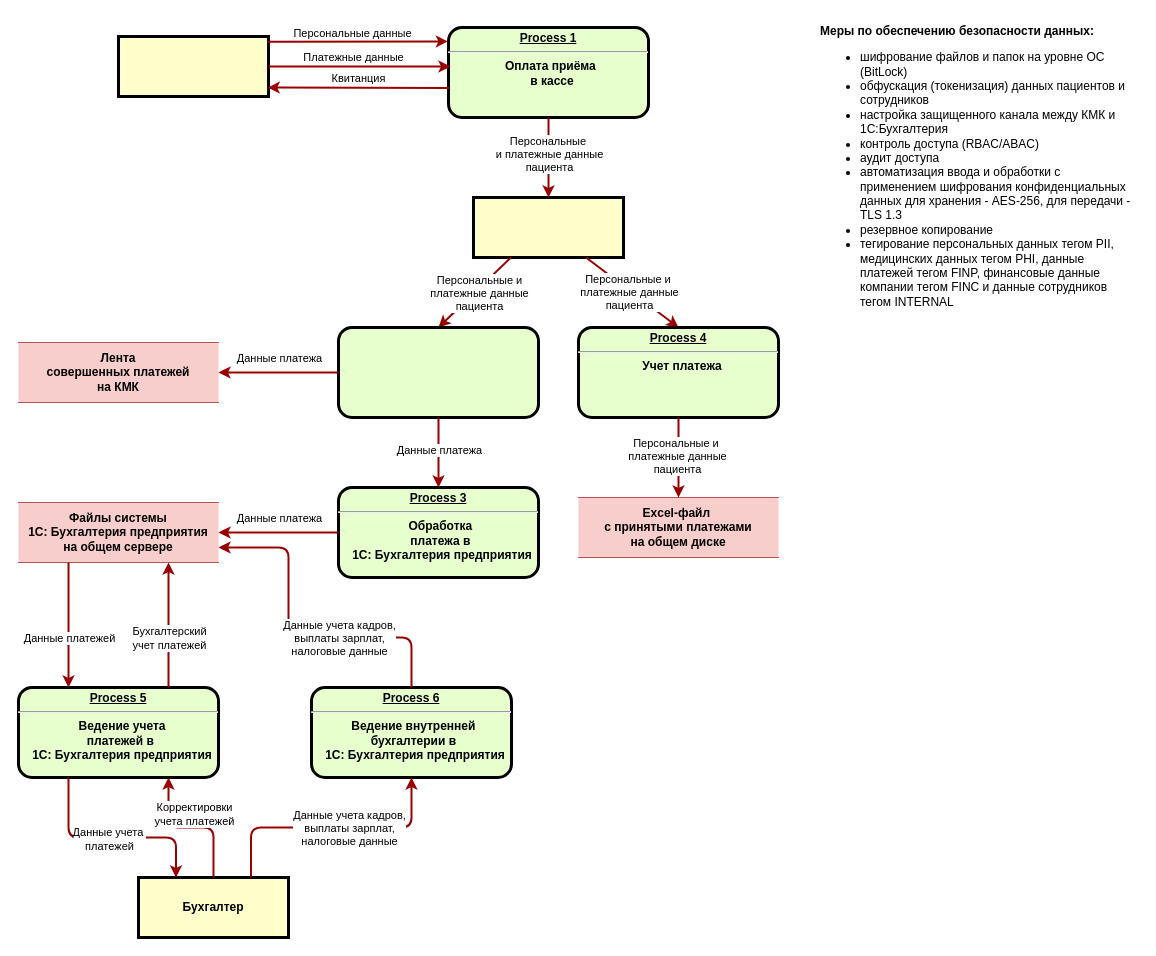
Some shapes in this 1156 by 956 pixel diagram are drawn without their labels. The centre of each missing label's shape, as x and y in pixels:
"Process 2 Проведение платежа через Контрольно-Кассовую Машину (КМК)" belongs at (x=438, y=372).
"Кассир" belongs at (x=548, y=227).
"Пациент" belongs at (x=193, y=66).
